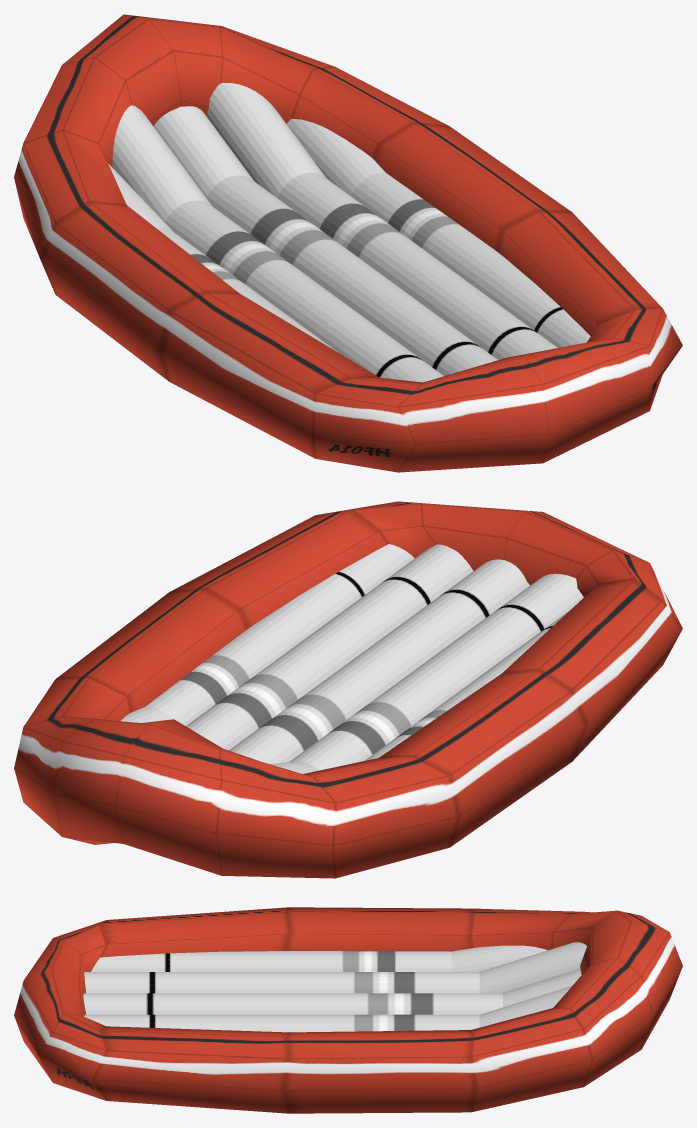
Rendered from boat.fbx.
3 views of the same model, one above another, from view 1: azimuth 30°, elevation 25°; view 2: azimuth 150°, elevation 25°; view 3: azimuth 270°, elevation 25° (orthographic). The views are drawn at different scales.
Parts seen in each view (by area): view 1: Cube.002, Cylinder; view 2: Cube.002, Cylinder; view 3: Cube.002, Cylinder.
Part boxes in pixels (x1=…): Cube.002: x1=14, y1=14, x2=682, y2=472; Cylinder: x1=108, y1=83, x2=590, y2=382; Cube.002: x1=14, y1=501, x2=682, y2=878; Cylinder: x1=120, y1=544, x2=583, y2=773; Cube.002: x1=14, y1=907, x2=682, y2=1113; Cylinder: x1=83, y1=942, x2=586, y2=1032.
Bounding box in the file's own units: 651 × 248 × 1148.
2 materials, 2 textured.
